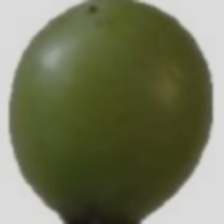grapes: (61, 40, 199, 195)
